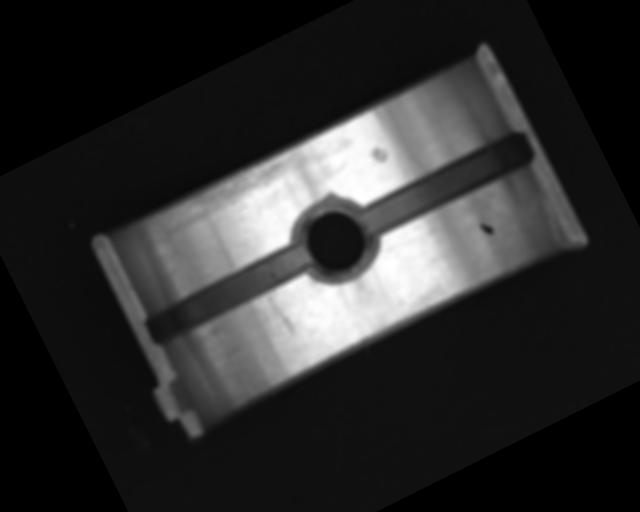blot: (478, 218, 495, 238)
bruise: (367, 142, 391, 167)
gap: (352, 126, 537, 243), (140, 239, 312, 348)
hole: (280, 186, 387, 296)
nick: (258, 287, 298, 342)
scratch: (146, 140, 310, 242)
